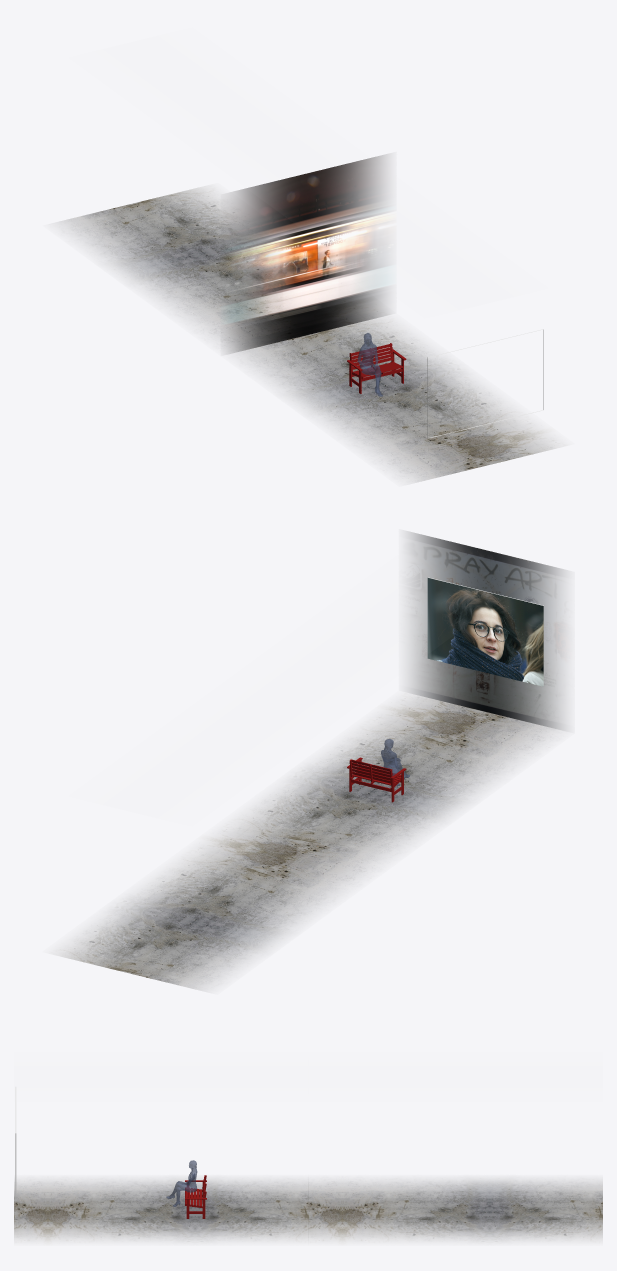
File: vr_gallery_04_underground.glb
3 views of the same model, one above another, from view 1: azimuth 30°, elevation 25°; view 2: azimuth 150°, elevation 25°; view 3: azimuth 270°, elevation 25° (orthographic). The views are drawn at different scales.
Parts seen in each view (by area): view 1: object 8, object 1, GDLM13_wood1, object 5; view 2: object 8, object 9, object 6, GDLM13_wood1; view 3: object 8, GDLM13_wood1, object 5.
Part boxes in pixels (x1,y1,x2,y2): object 8: [56, 186, 561, 483]; object 1: [233, 155, 383, 352]; GDLM13_wood1: [347, 343, 406, 393]; object 5: [357, 333, 382, 396]; object 8: [55, 694, 560, 991]; object 9: [411, 532, 562, 729]; object 6: [427, 578, 543, 686]; GDLM13_wood1: [347, 757, 406, 802]; object 8: [14, 1179, 602, 1241]; GDLM13_wood1: [185, 1175, 206, 1218]; object 5: [166, 1160, 197, 1206].
Size of what is drawn, in the model's own units: 2.21 by 1.47 by 5.89.
8 materials, 5 textured.
